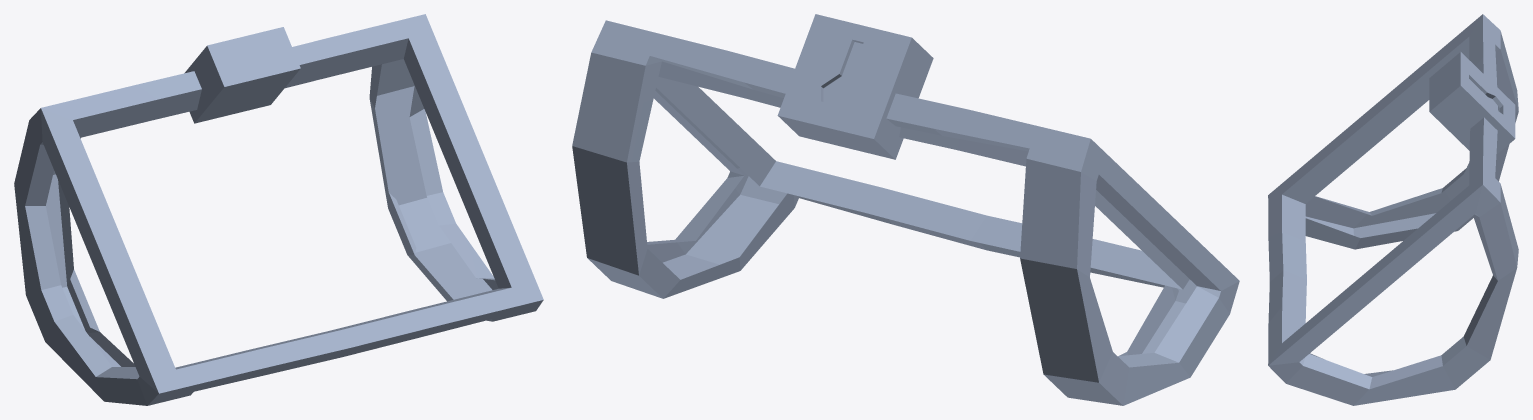
The model's file is n2_chest_top_light_grey_0_lev2.005.glb.
The picture shows the model from 3 angles, left to right: view 1: azimuth 30°, elevation 25°; view 2: azimuth 150°, elevation 25°; view 3: azimuth 270°, elevation 25°; orthographic projection. The views are drawn at different scales.
Visible parts, largest first — view 1: n2_chest_top_light_grey_0_lev2.005; view 2: n2_chest_top_light_grey_0_lev2.005; view 3: n2_chest_top_light_grey_0_lev2.005.
Part boxes in pixels (box(x1,y1,x2,y2)): n2_chest_top_light_grey_0_lev2.005: box(14, 14, 543, 405); n2_chest_top_light_grey_0_lev2.005: box(572, 14, 1239, 405); n2_chest_top_light_grey_0_lev2.005: box(1268, 14, 1518, 405).
Bounding box in the file's own units: 1.35 × 0.8768 × 0.7966.
